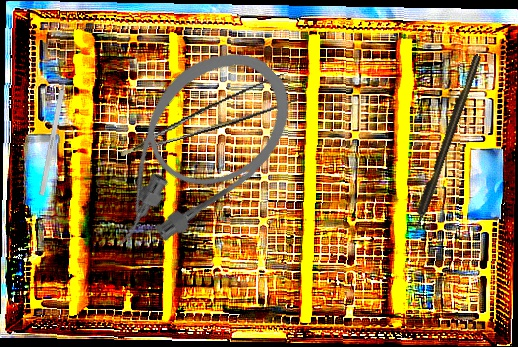Cannula: (62, 25, 317, 277)
Hook Surgical: (407, 54, 483, 240), (38, 64, 71, 196)
Tissue Forceps: (111, 70, 304, 157)
